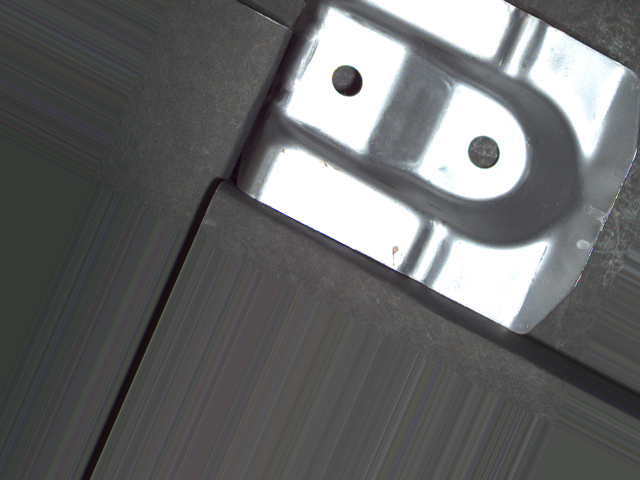defect: (466, 131, 502, 173)
